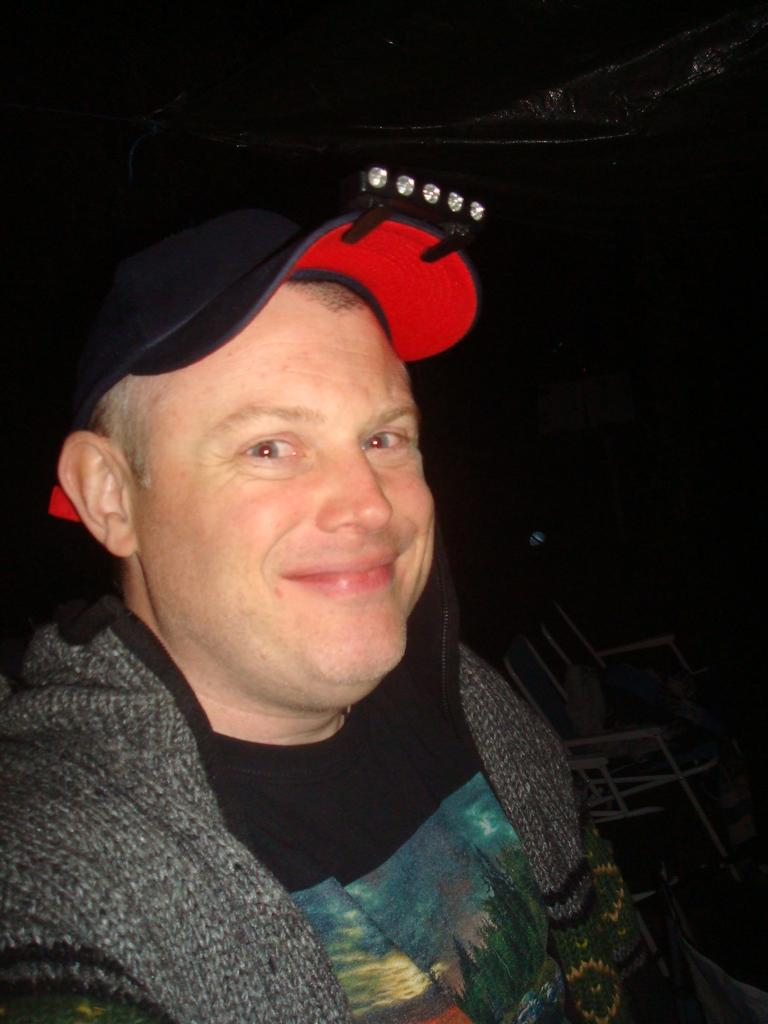Hat: (16, 162, 478, 526)
